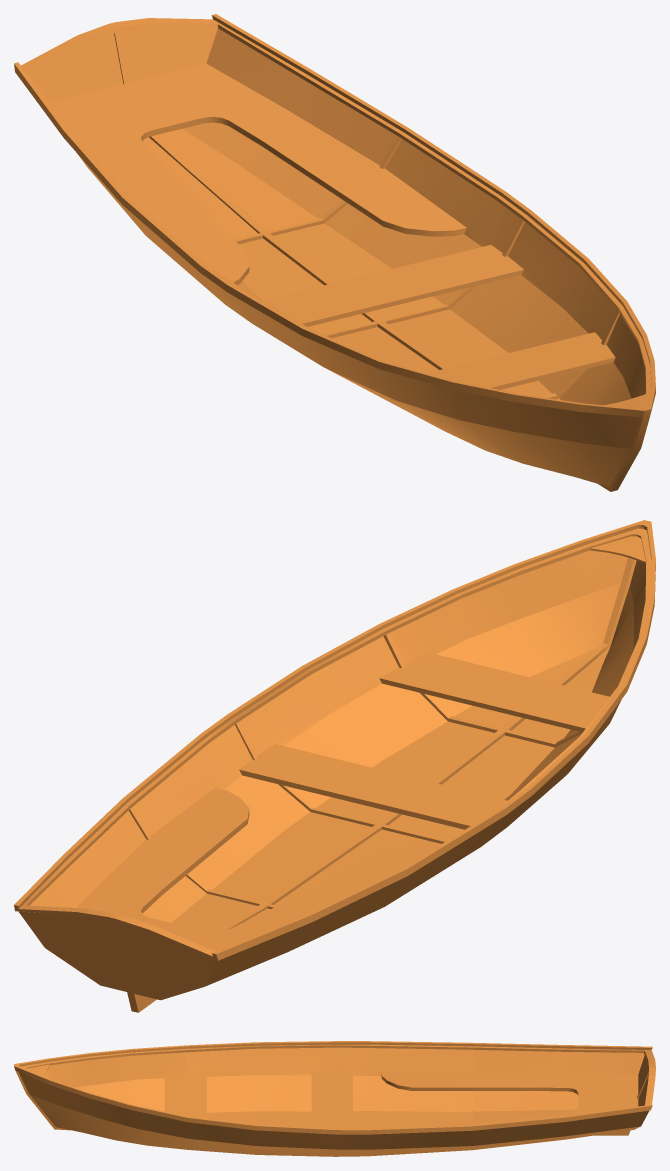
The model's file is boat_v3.obj.
3 renders of one model, top to bottom at view 1: azimuth 30°, elevation 25°; view 2: azimuth 150°, elevation 25°; view 3: azimuth 270°, elevation 25°, orthographic. The views are drawn at different scales.
Parts seen in each view (by area): view 1: boat_v3_Cube.005; view 2: boat_v3_Cube.005; view 3: boat_v3_Cube.005.
Boxes of the visible parts, bbox=[...] form: boat_v3_Cube.005: bbox=[14, 14, 655, 491]; boat_v3_Cube.005: bbox=[14, 520, 655, 1012]; boat_v3_Cube.005: bbox=[14, 1041, 655, 1156].
Bounding box in the file's own units: 1.55 × 0.5894 × 4.7.
